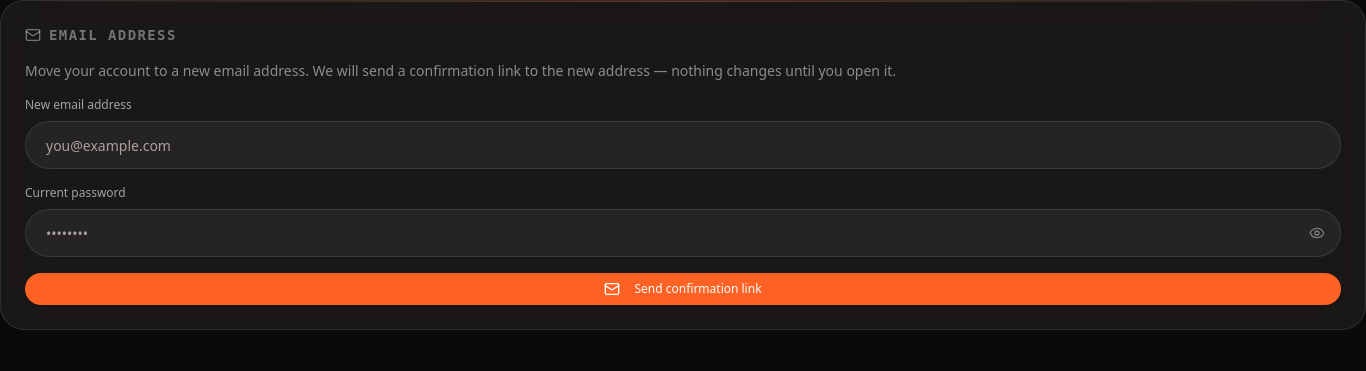
Test: EmailChangeCard submission › shows the verbatim "Required" error when the password is empty
The image size is (1366, 371).
Type "new@example.com" into the field labelled "New email address" at (683, 145), box [25,121,1341,169]
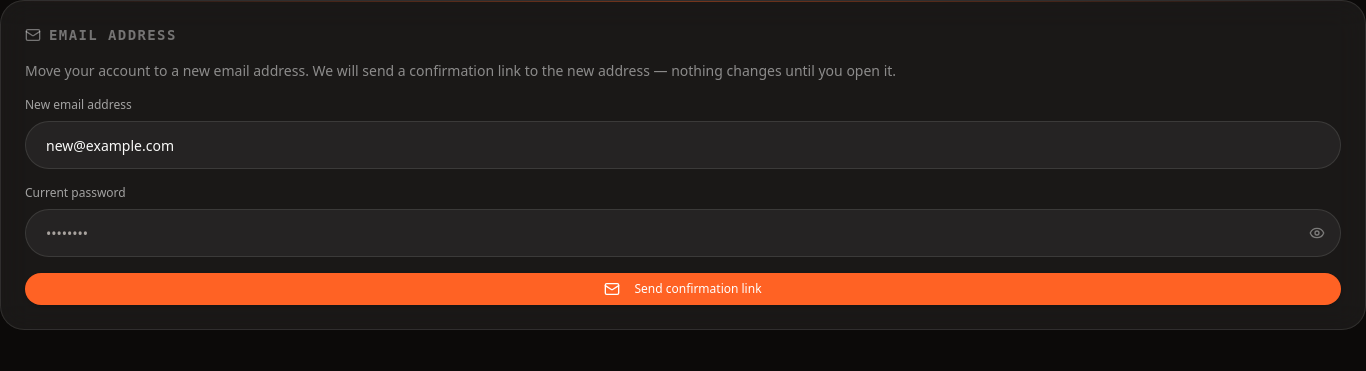
Click the button "Send confirmation link" at (683, 289), box [25,273,1341,305]
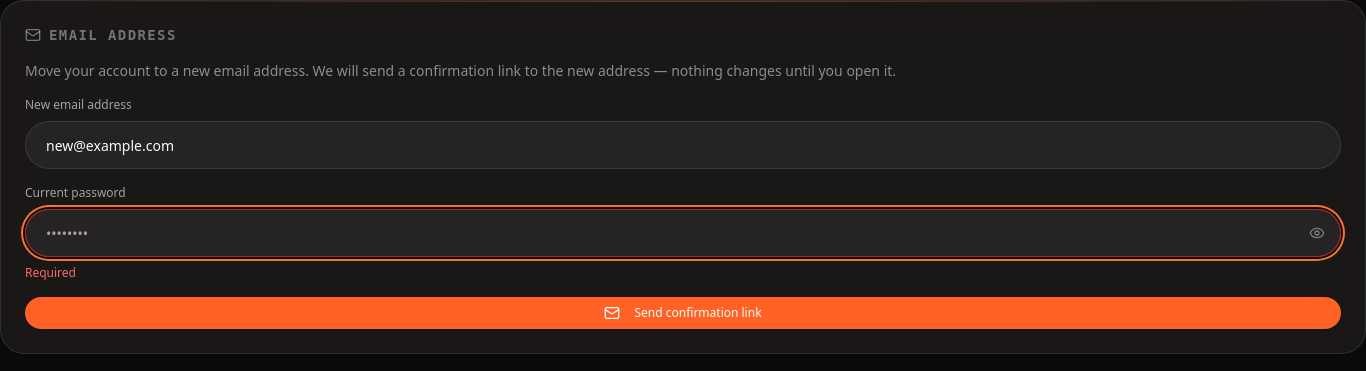
Expected: the text "Required" is shown, [25,264,76,281]
